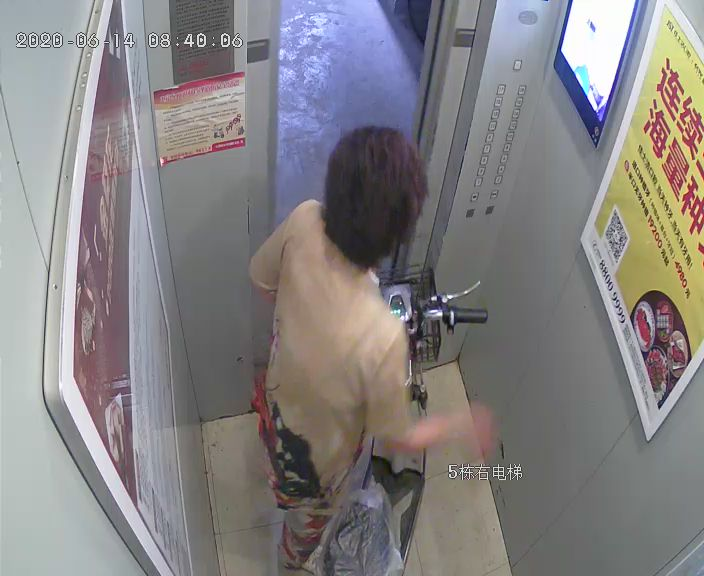Electric-bicycle: (311, 260, 487, 576)
